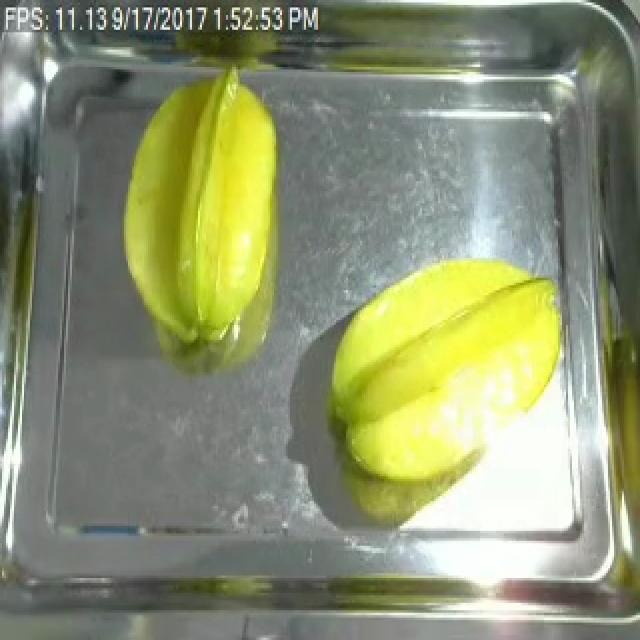fruit: (316, 241, 576, 501), (108, 60, 290, 357)
